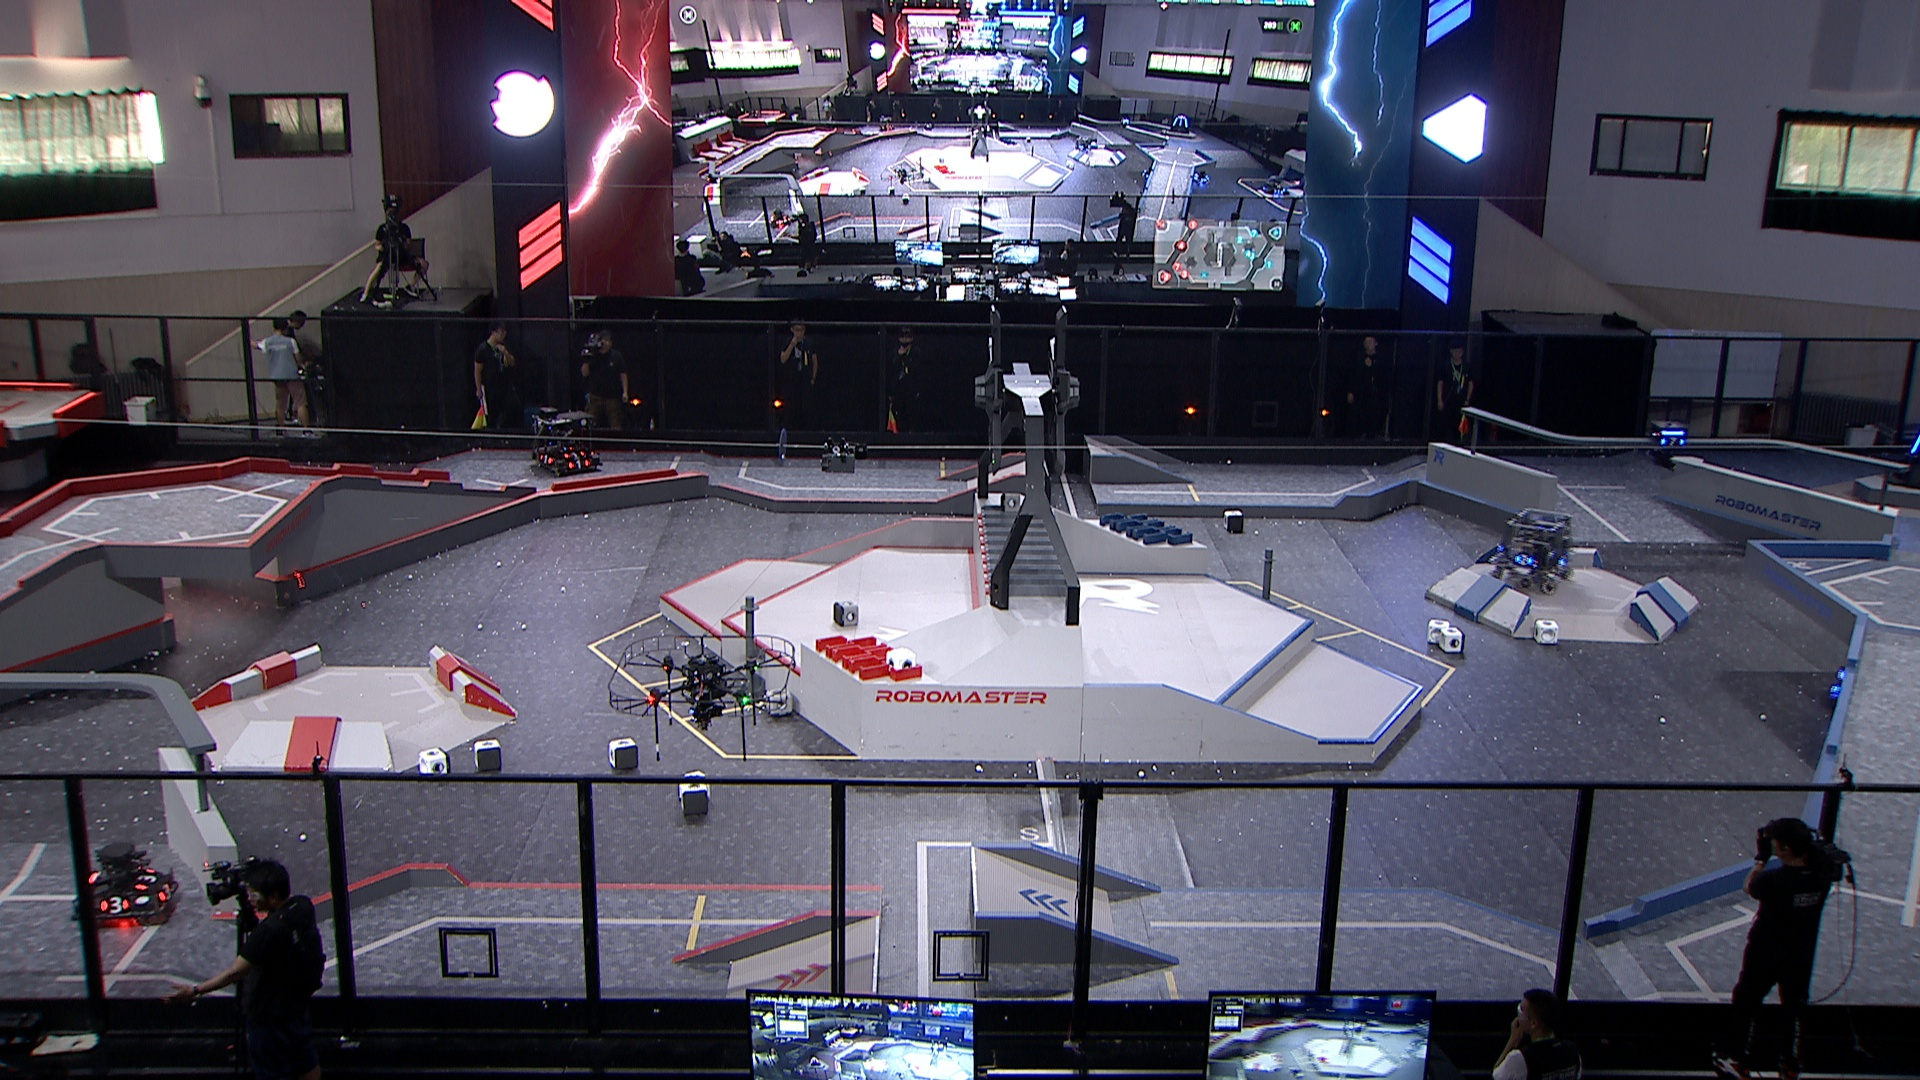armor: (98, 895, 131, 915), (131, 868, 158, 889), (156, 882, 178, 902), (1513, 553, 1534, 567), (1660, 436, 1685, 448), (567, 460, 589, 471), (1909, 434, 1920, 455), (564, 450, 585, 460), (537, 454, 555, 465), (1557, 553, 1571, 566)
base: (1888, 404, 1920, 495)
car: (73, 836, 179, 924), (1489, 504, 1576, 593), (531, 404, 604, 476)
ignore: (1262, 175, 1290, 196), (769, 206, 793, 228), (1171, 113, 1189, 135), (1076, 135, 1097, 152), (1193, 167, 1212, 185), (707, 167, 723, 186), (880, 115, 897, 131), (1120, 117, 1133, 129)
watcher: (1644, 419, 1689, 471)
